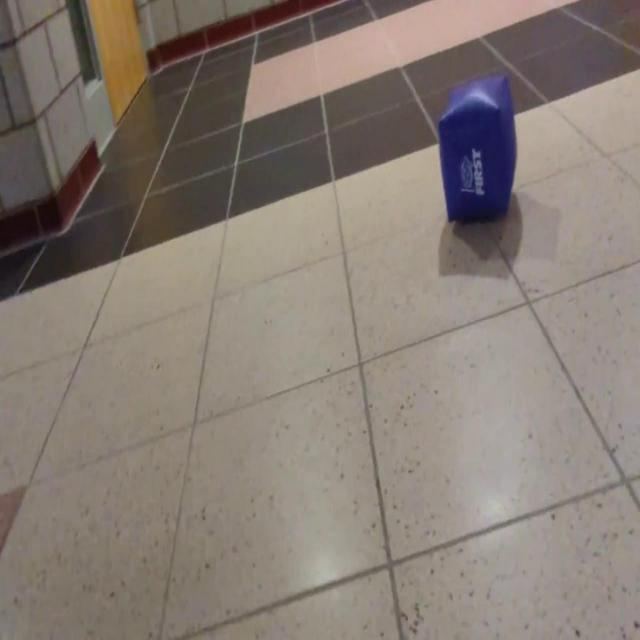frc_cube: (440, 75, 518, 225)
